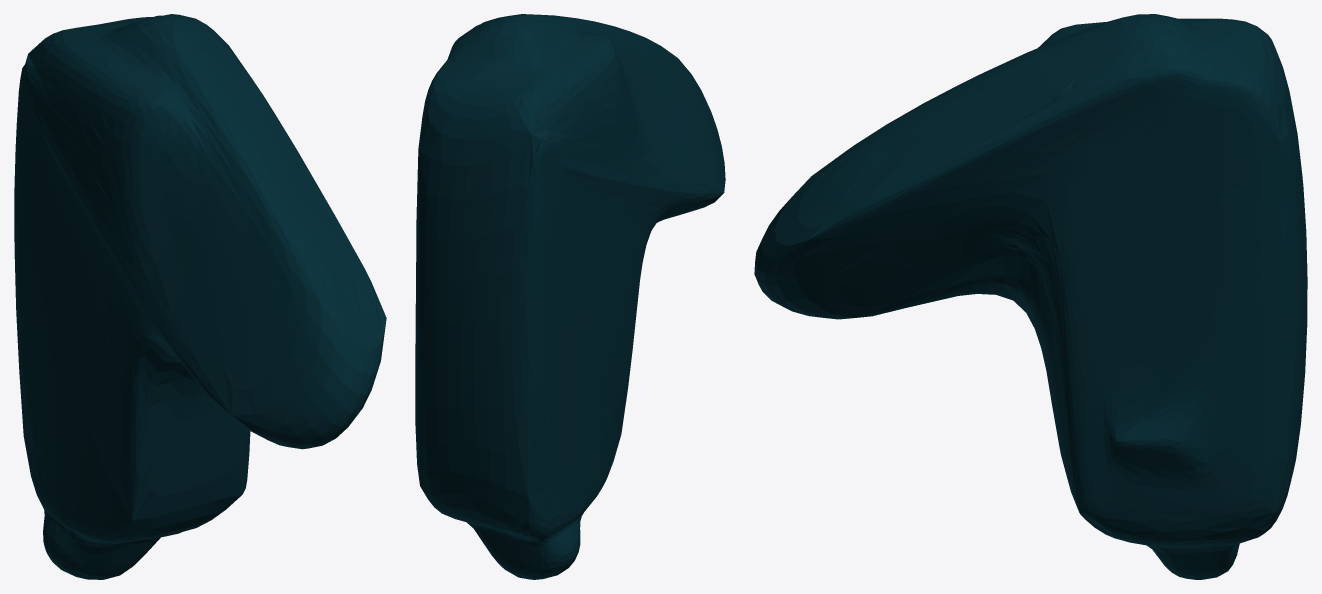
The picture shows the model from 3 angles, left to right: view 1: azimuth 30°, elevation 25°; view 2: azimuth 150°, elevation 25°; view 3: azimuth 270°, elevation 25°; orthographic projection. The views are drawn at different scales.
Parts seen in each view (by area): view 1: 478_Cube.1940; view 2: 478_Cube.1940; view 3: 478_Cube.1940.
Part boxes in pixels (x1,y1,x2,y2): 478_Cube.1940: (14, 14, 386, 579); 478_Cube.1940: (415, 14, 725, 579); 478_Cube.1940: (754, 14, 1307, 579).
Bounding box in the file's own units: 4.25 × 14.28 × 12.36.
